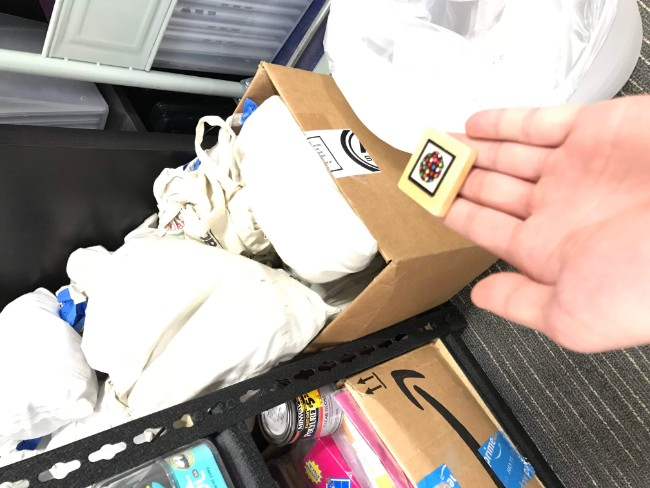cookie: (399, 128, 475, 223)
